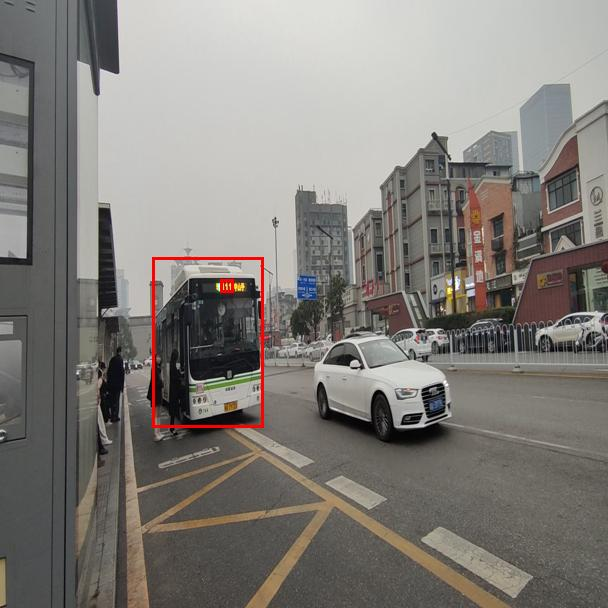bus: (152, 257, 263, 427)
screen: (220, 279, 233, 292)
